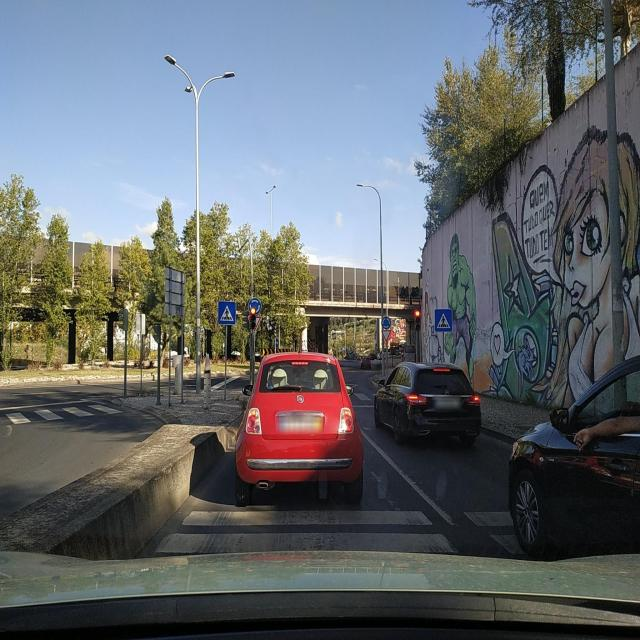car: (507, 344, 640, 561), (234, 350, 364, 504), (373, 361, 482, 445)
